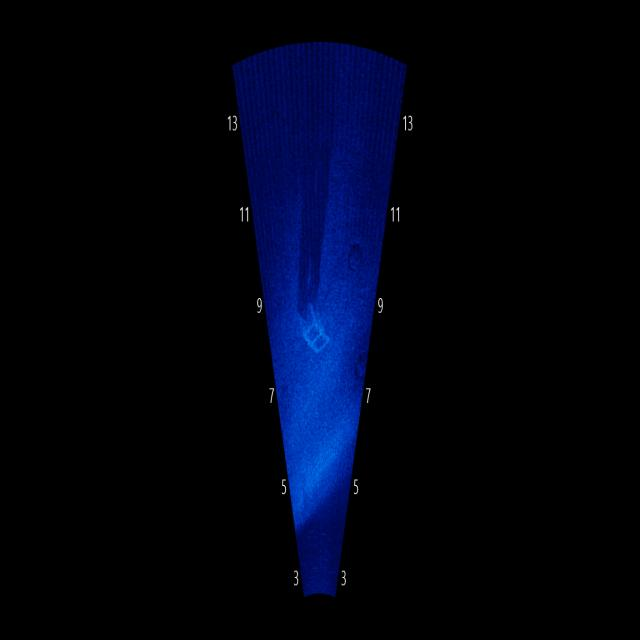square: (294, 292, 336, 366)
